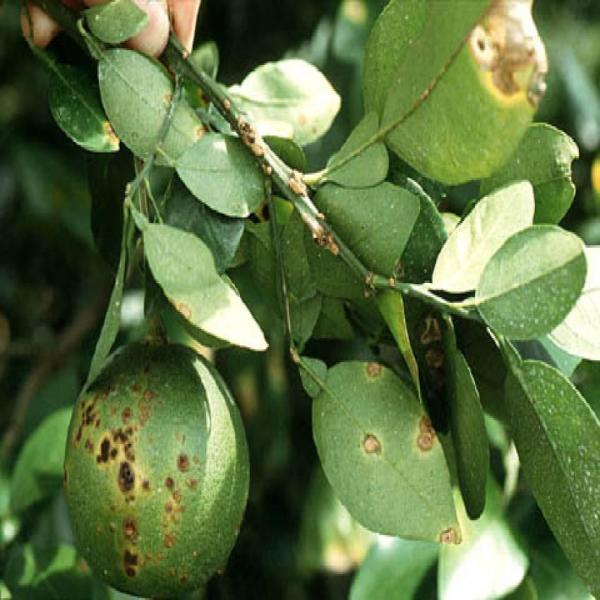Trips: (57, 331, 251, 596), (364, 0, 549, 185)
